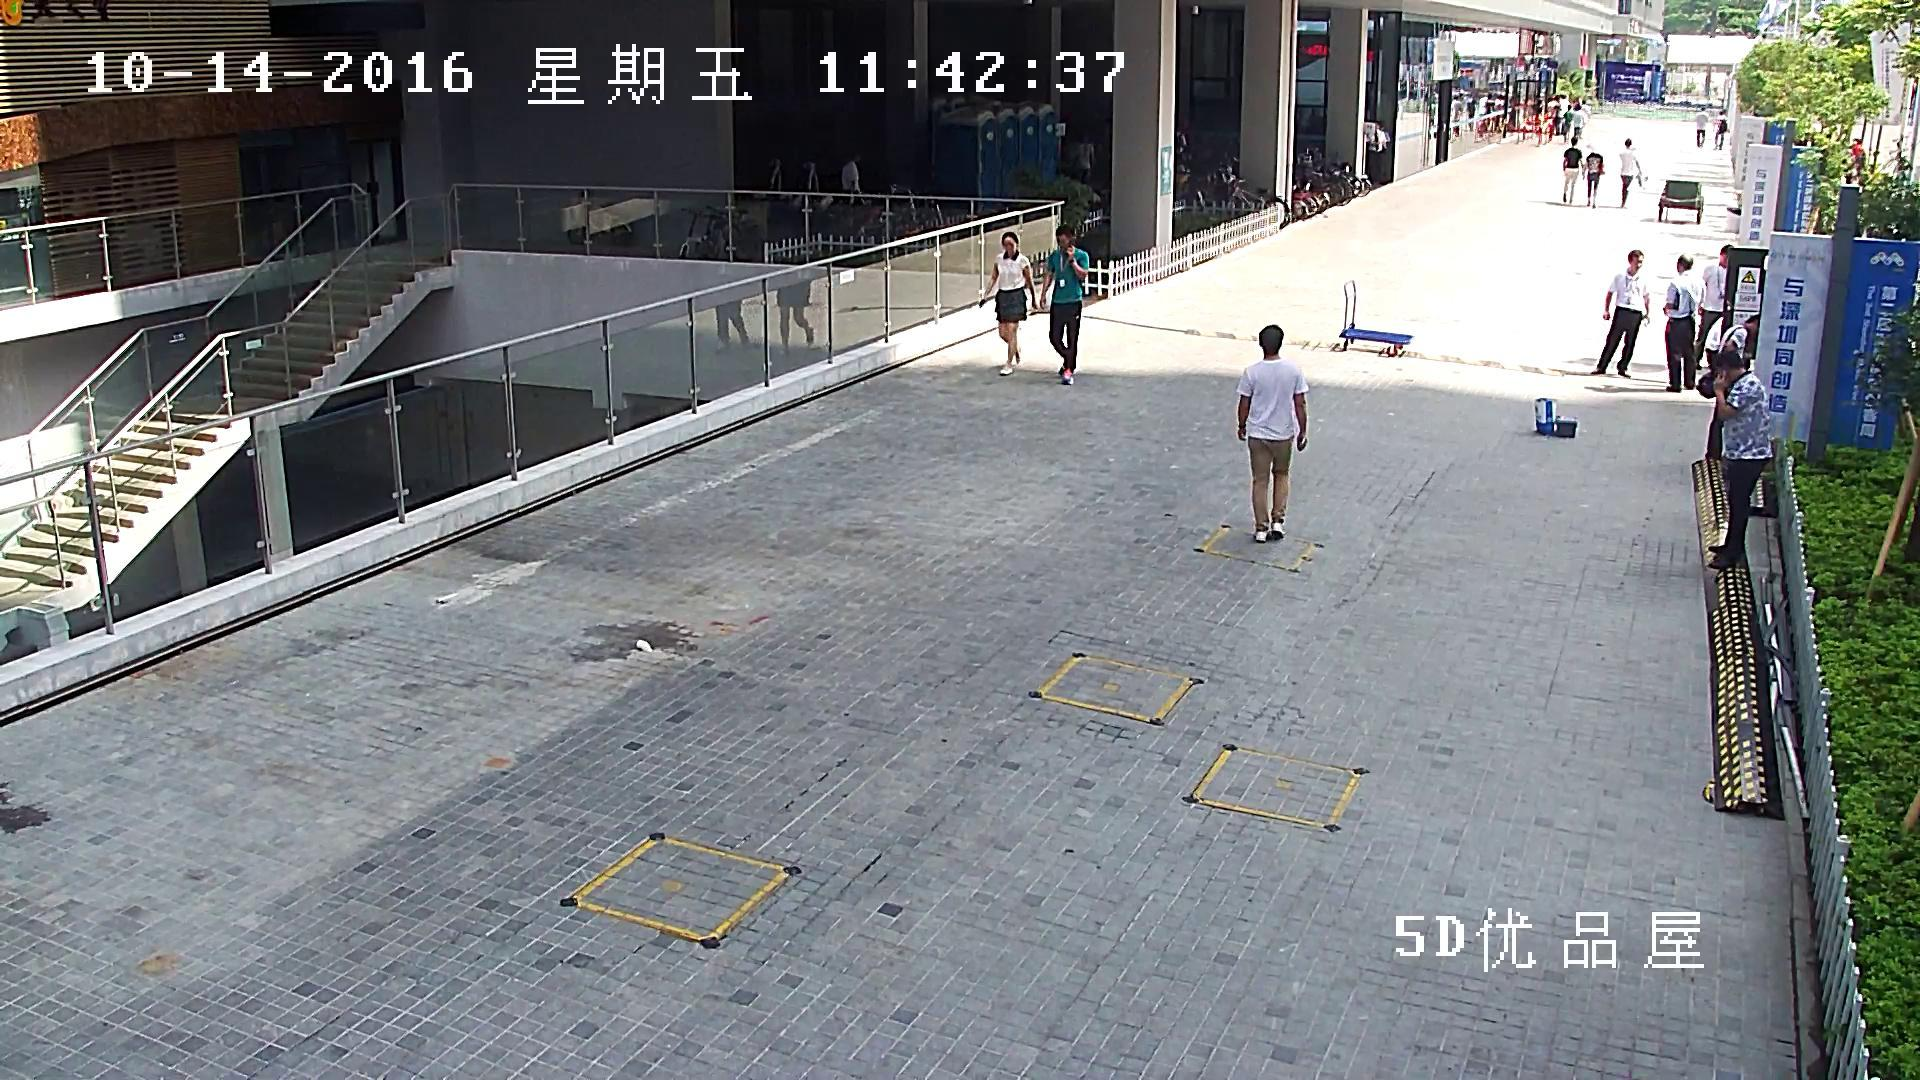person: (1236, 323, 1309, 542), (1706, 350, 1773, 568), (976, 231, 1037, 376), (1696, 316, 1758, 455), (1039, 224, 1089, 385), (1591, 248, 1649, 377), (1662, 253, 1706, 393), (1694, 243, 1734, 369), (777, 278, 813, 352), (715, 300, 760, 350), (1619, 137, 1647, 207), (1561, 136, 1582, 203), (1582, 150, 1605, 208), (1366, 122, 1387, 180), (1694, 104, 1709, 147), (1713, 111, 1726, 149), (1571, 104, 1584, 139), (1562, 105, 1573, 141)
